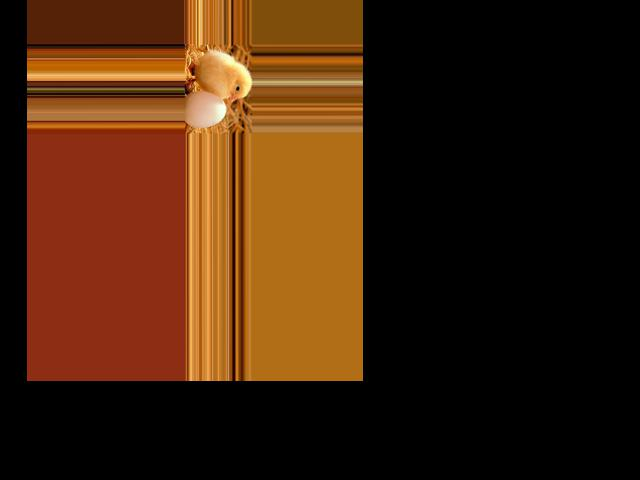egg: (184, 90, 226, 127)
